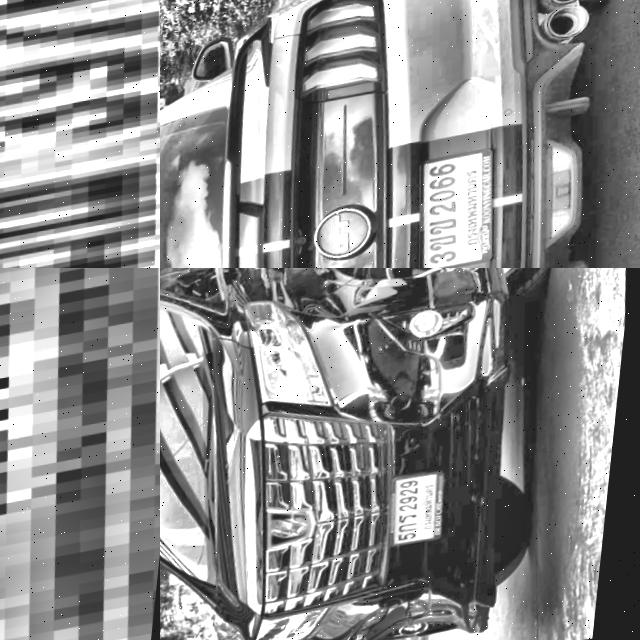license-plate: (0, 268, 160, 640), (0, 0, 160, 268), (412, 154, 512, 268), (392, 478, 463, 558)
